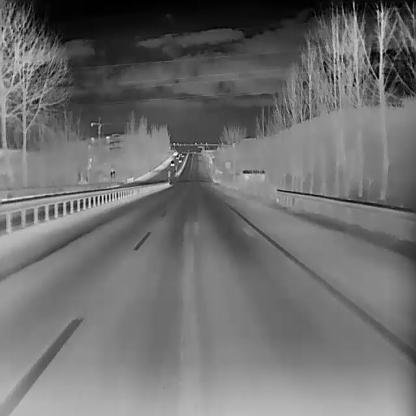car: (169, 158, 174, 165)
